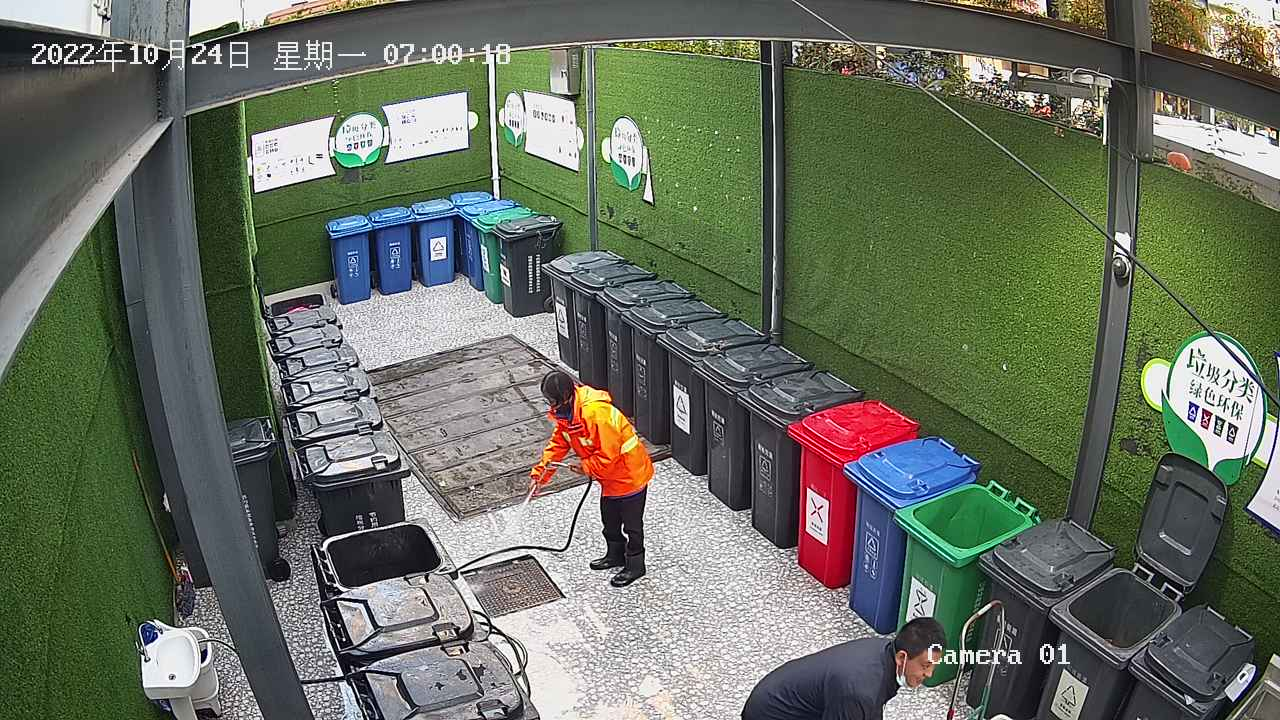person: (733, 610, 959, 720)
worker: (524, 367, 658, 590)
